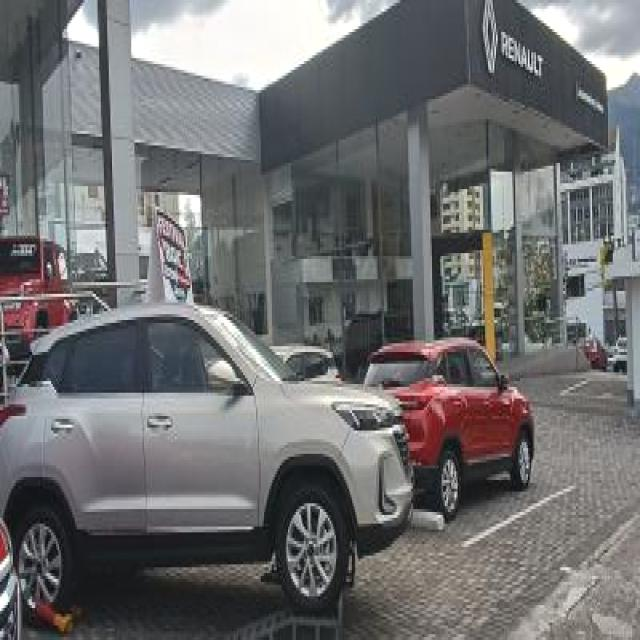SUV: (2, 293, 418, 625), (360, 336, 534, 520)
